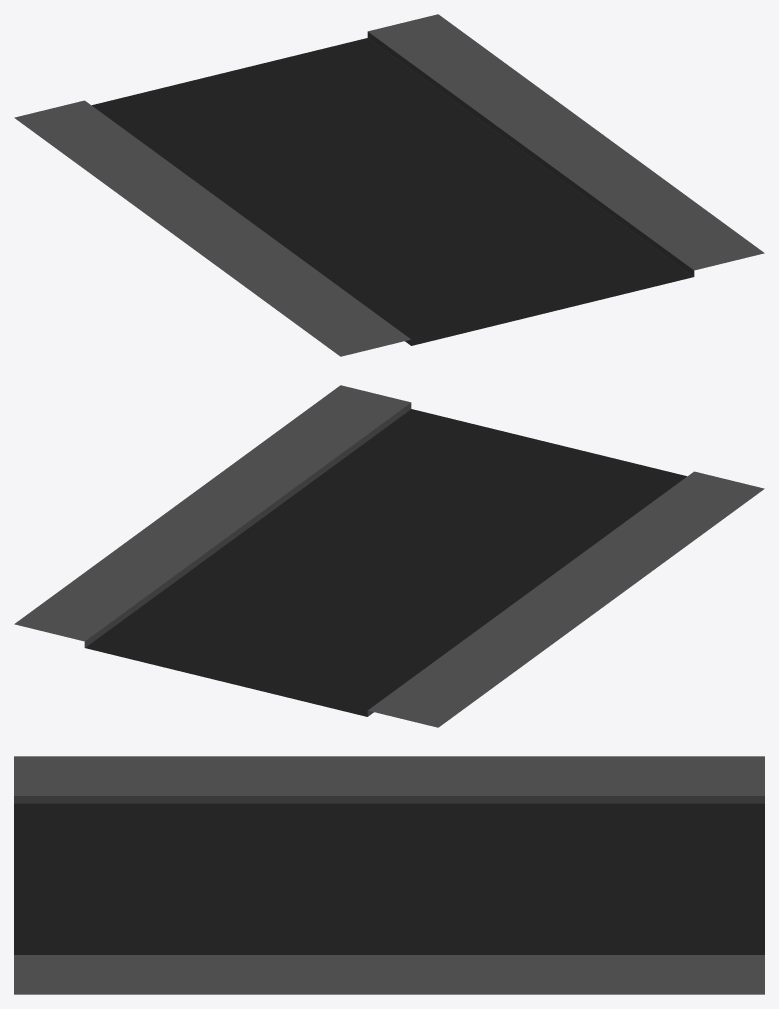
File: Straight.fbx
3 renders of one model, top to bottom at view 1: azimuth 30°, elevation 25°; view 2: azimuth 150°, elevation 25°; view 3: azimuth 270°, elevation 25°, orthographic. The views are drawn at different scales.
Parts seen in each view (by area): view 1: Straight; view 2: Straight; view 3: Straight.
Boxes of the visible parts, x1,y1,x2,y2 form: Straight: (14,14,764,356); Straight: (14,385,764,727); Straight: (14,756,764,994).
Bounding box in the file's own units: 6 × 0.0877 × 8.
